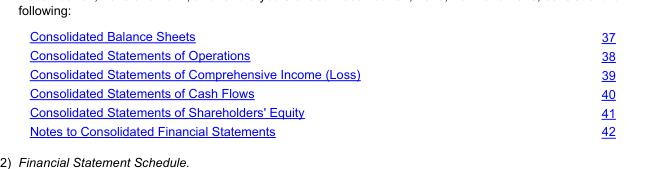table: (28, 28, 614, 138)
table column: (28, 28, 480, 138), (480, 28, 614, 138)
table row: (28, 45, 614, 64), (28, 64, 614, 83), (28, 83, 614, 102), (28, 102, 614, 121), (28, 28, 614, 45), (28, 121, 614, 138)
